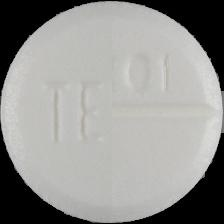53808-0257: (0, 0, 224, 224)
